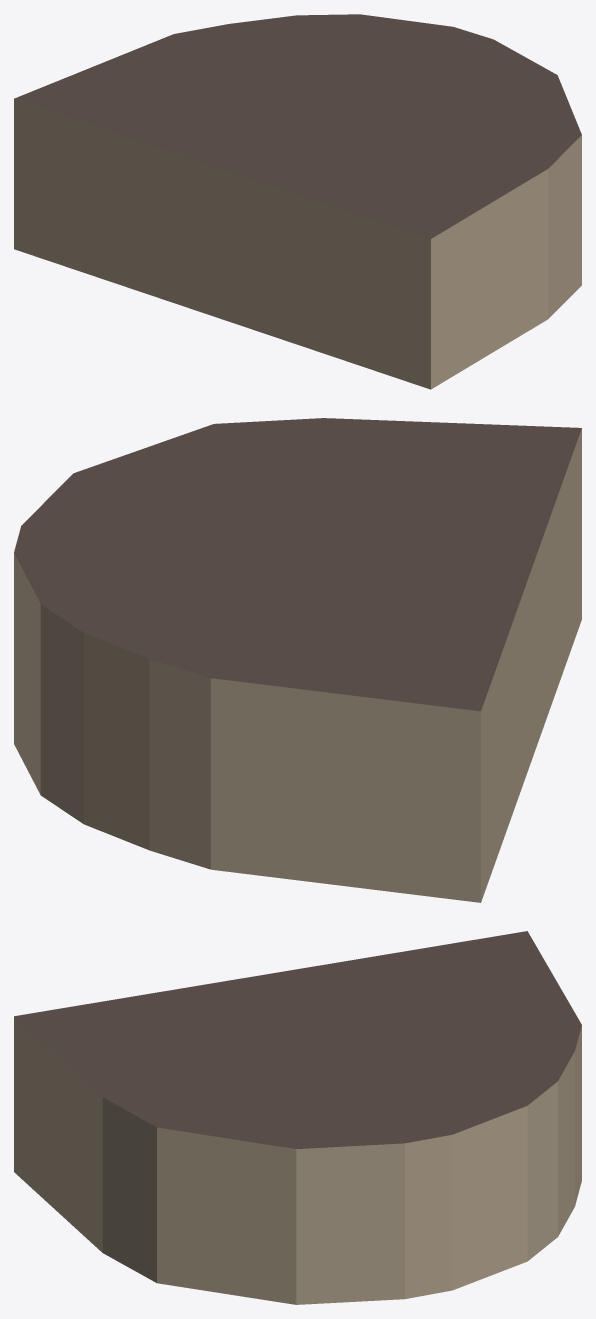
3 renders of one model, top to bottom at view 1: azimuth 30°, elevation 25°; view 2: azimuth 150°, elevation 25°; view 3: azimuth 270°, elevation 25°, orthographic. The views are drawn at different scales.
Visible parts, largest first — view 1: HP-w369317447; view 2: HP-w369317447; view 3: HP-w369317447.
Boxes of the visible parts, left/top/right/bottom form: HP-w369317447: left=14, top=14, right=581, bottom=389; HP-w369317447: left=14, top=418, right=581, bottom=902; HP-w369317447: left=14, top=931, right=581, bottom=1304.
Size of the model in its own units: 27.02 by 9 by 29.74.
